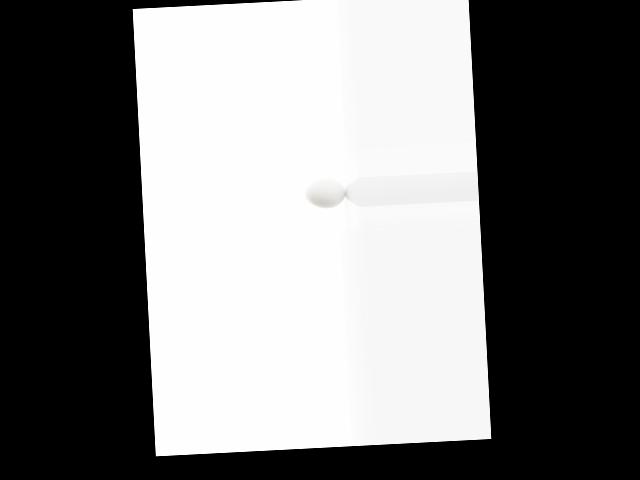egg: (304, 178, 346, 209)
